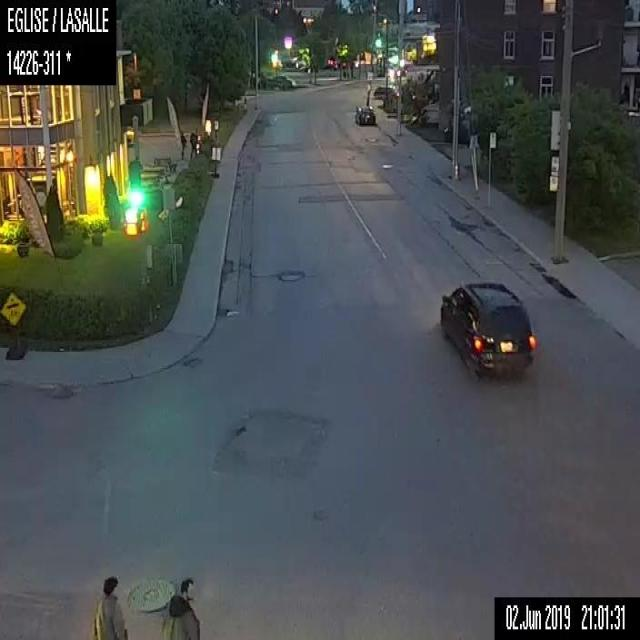pedestrian: (158, 577, 199, 639), (91, 574, 126, 638), (188, 128, 196, 161), (178, 128, 186, 158)
vehicle: (438, 280, 536, 372), (354, 103, 376, 124), (271, 73, 295, 89)
